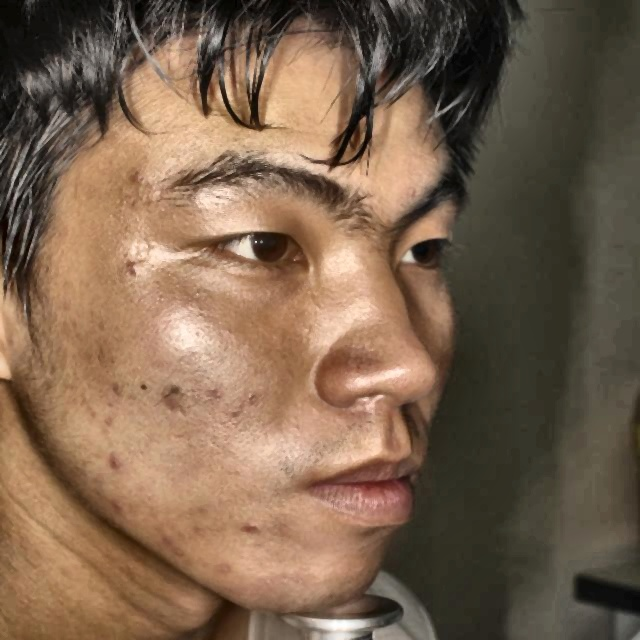pustule: (161, 526, 194, 559), (124, 164, 156, 194), (90, 404, 126, 430), (93, 491, 128, 516), (103, 446, 125, 471), (238, 519, 265, 539), (122, 251, 144, 272)
